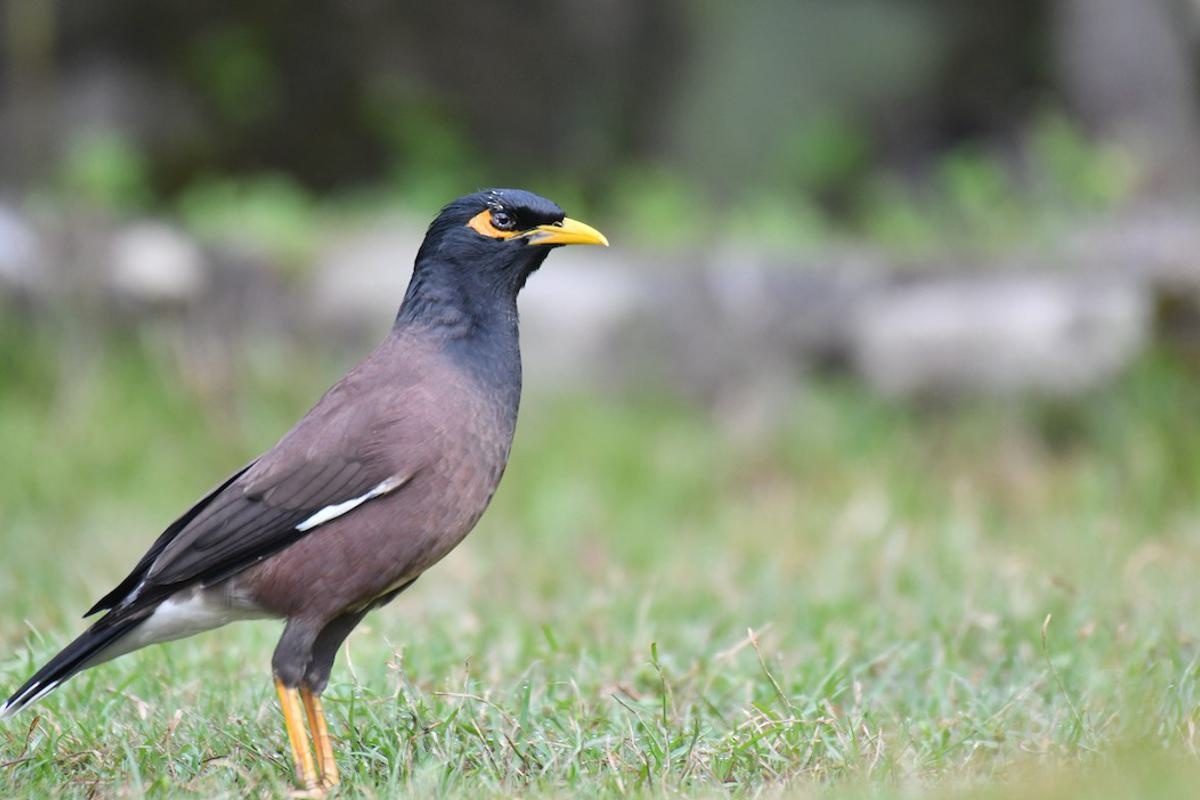myna: (75, 167, 649, 793)
